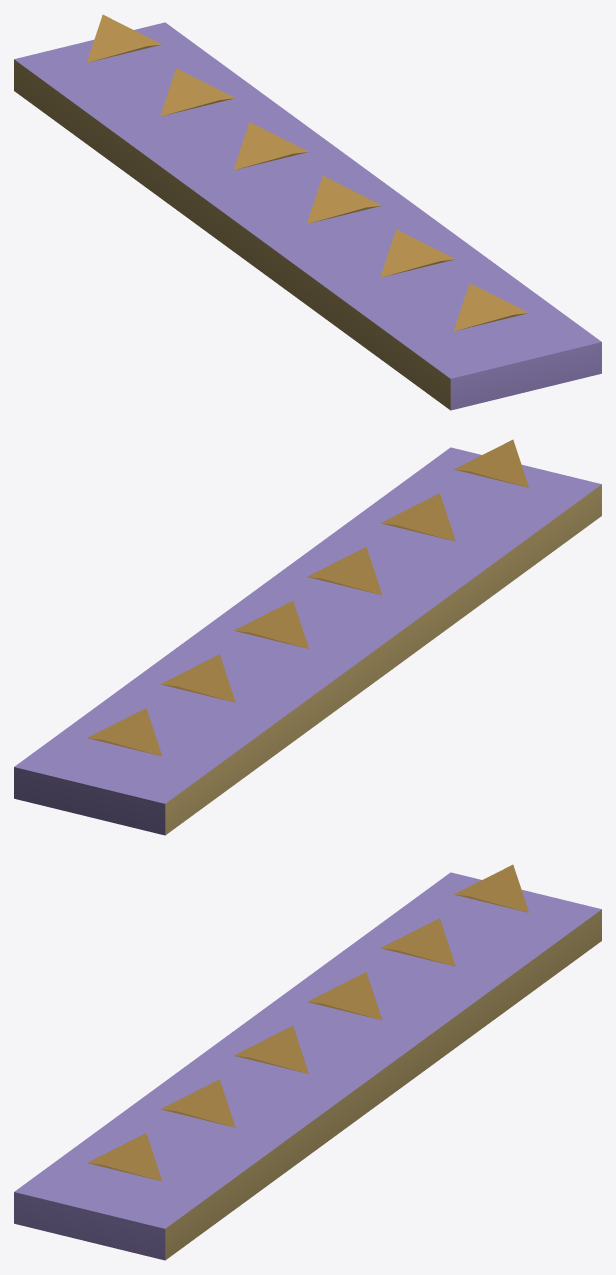
File: road-carnival.glb
3 renders of one model, top to bottom at view 1: azimuth 30°, elevation 25°; view 2: azimuth 150°, elevation 25°; view 3: azimuth 330°, elevation 25°, orthographic.
Visible parts, largest first — view 1: root_mesh; view 2: root_mesh; view 3: root_mesh.
Boxes of the visible parts, x1,y1,x2,y2 form: root_mesh: (14, 14, 601, 410); root_mesh: (14, 439, 601, 835); root_mesh: (14, 864, 601, 1260).
Bounding box in the file's own units: 0.44 × 0.188 × 2.2.
